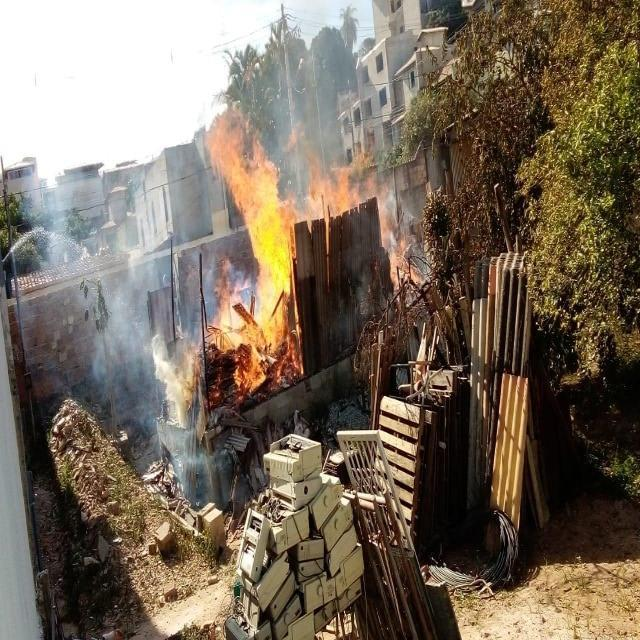Fire: (207, 102, 304, 388), (302, 116, 372, 208), (378, 179, 418, 282)
Smoke: (0, 0, 201, 491), (202, 2, 356, 113)
